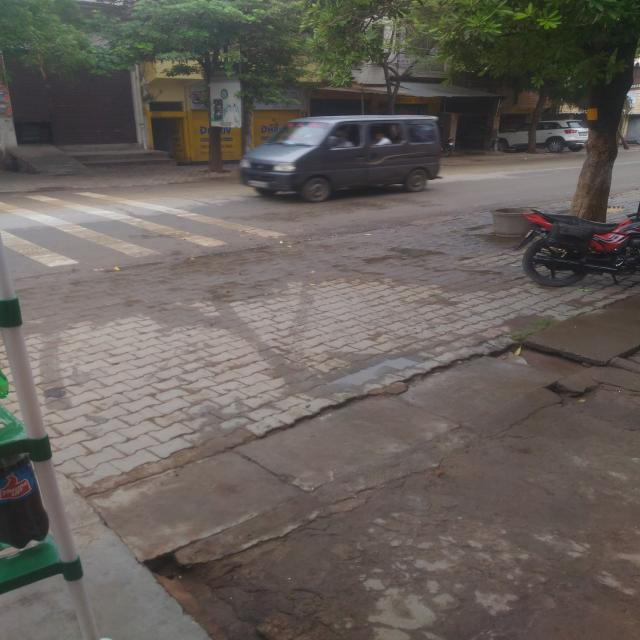Car: (240, 115, 440, 201), (537, 120, 588, 152), (497, 125, 528, 151)
Two Wheeler: (515, 210, 640, 286)
